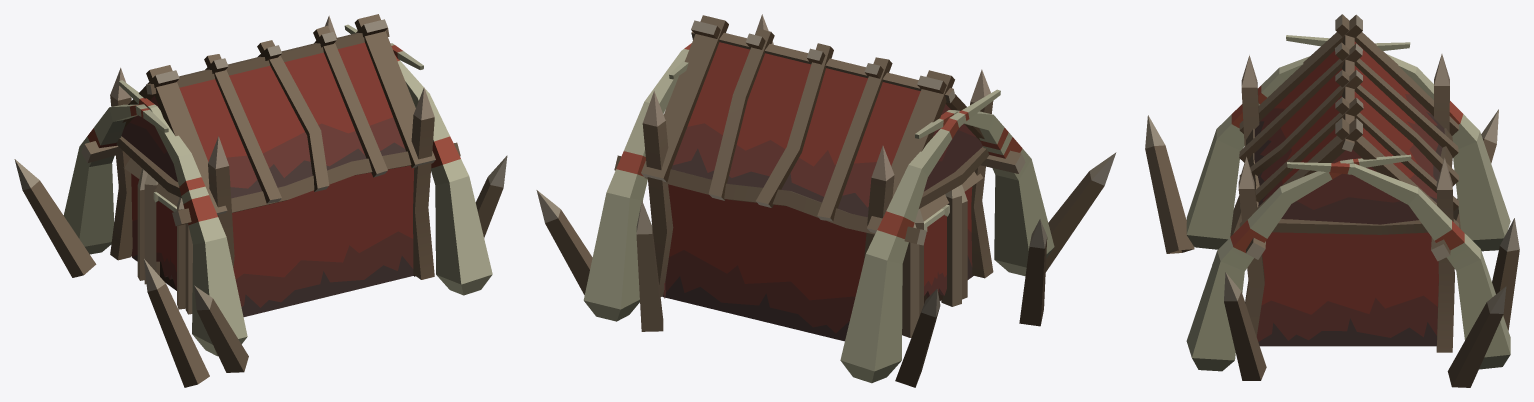
File: Model_Horde_3x2A.fbx
3 renders of one model, left to right at view 1: azimuth 30°, elevation 25°; view 2: azimuth 150°, elevation 25°; view 3: azimuth 270°, elevation 25°, orthographic. The views are drawn at different scales.
Parts seen in each view (by area): view 1: Model_Frost_3x2A; view 2: Model_Frost_3x2A; view 3: Model_Frost_3x2A.
Part boxes in pixels (x1=…): Model_Frost_3x2A: x1=14, y1=14, x2=507, y2=387; Model_Frost_3x2A: x1=536, y1=14, x2=1116, y2=387; Model_Frost_3x2A: x1=1145, y1=14, x2=1519, y2=387.
Bounding box in the file's own units: 530 × 368 × 461.
Materials: 1 (1 with a texture image).
